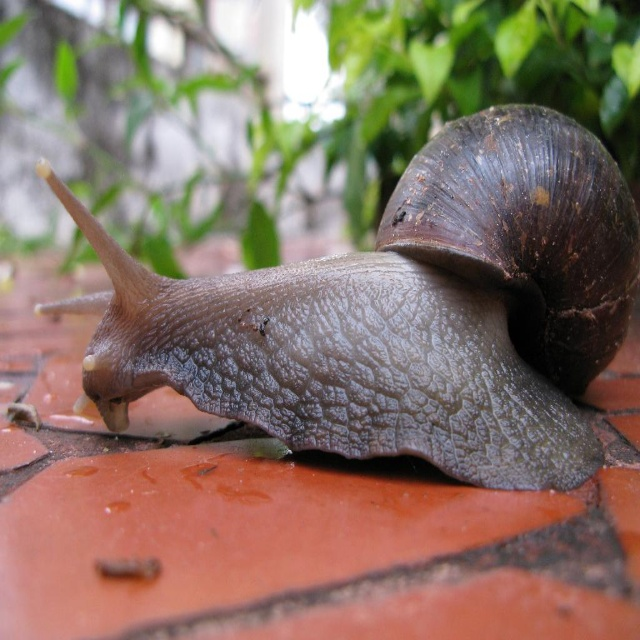Snail: (33, 103, 640, 496)
